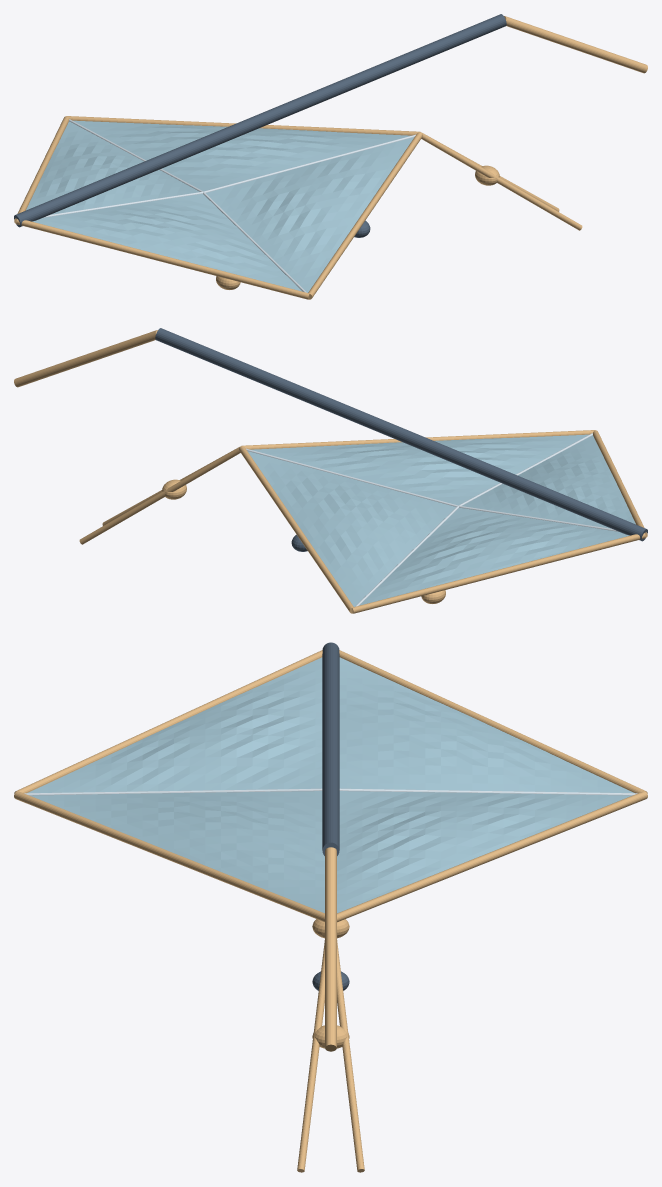
File: sail_left.glb
3 renders of one model, top to bottom at view 1: azimuth 30°, elevation 25°; view 2: azimuth 150°, elevation 25°; view 3: azimuth 270°, elevation 25°, orthographic. The views are drawn at different scales.
Visible parts, largest first — view 1: WEB_Tension_Membrane_-1, WEB_P2L_Raised_MainBoom_-1, WEB_Membrane_Edge_-1_1, WEB_Membrane_Edge_-1_3, WEB_P2L_Overhead_Yoke_-1, WEB_Membrane_Edge_-1_0, WEB_Boom_CrossBraceRear_-1, WEB_Membrane_Edge_-1_2, WEB_Membrane_Tension_-1_0; view 2: WEB_Tension_Membrane_-1, WEB_P2L_Raised_MainBoom_-1, WEB_Membrane_Edge_-1_2, WEB_Membrane_Edge_-1_0, WEB_P2L_Overhead_Yoke_-1, WEB_Membrane_Edge_-1_3, WEB_Boom_CrossBrace_-1, WEB_Membrane_Edge_-1_1, WEB_Membrane_Tension_-1_0; view 3: WEB_Tension_Membrane_-1, WEB_P2L_Raised_MainBoom_-1, WEB_Membrane_Edge_-1_0, WEB_Membrane_Edge_-1_3, WEB_P2L_Overhead_Yoke_-1, WEB_Membrane_Edge_-1_1, WEB_Membrane_Edge_-1_2, WEB_Boom_CrossBrace_-1, WEB_Boom_CrossBraceRear_-1, WEB_Membrane_Tension_-1_1, WEB_Membrane_Tension_-1_3.
Part boxes in pixels (<box>): WEB_Tension_Membrane_-1: <box>26,120,414,292</box>; WEB_P2L_Raised_MainBoom_-1: <box>14,14,506,227</box>; WEB_Membrane_Edge_-1_1: <box>16,219,309,299</box>; WEB_Membrane_Edge_-1_3: <box>67,116,419,135</box>; WEB_P2L_Overhead_Yoke_-1: <box>504,16,647,73</box>; WEB_Membrane_Edge_-1_0: <box>308,132,422,299</box>; WEB_Boom_CrossBraceRear_-1: <box>421,133,582,230</box>; WEB_Membrane_Edge_-1_2: <box>14,116,68,223</box>; WEB_Membrane_Tension_-1_0: <box>203,134,415,192</box>; WEB_Tension_Membrane_-1: <box>247,434,635,606</box>; WEB_P2L_Raised_MainBoom_-1: <box>155,328,647,541</box>; WEB_Membrane_Edge_-1_2: <box>352,533,645,613</box>; WEB_Membrane_Edge_-1_0: <box>242,430,594,449</box>; WEB_P2L_Overhead_Yoke_-1: <box>14,330,157,387</box>; WEB_Membrane_Edge_-1_3: <box>239,446,353,613</box>; WEB_Boom_CrossBrace_-1: <box>79,447,240,544</box>; WEB_Membrane_Edge_-1_1: <box>593,430,647,537</box>; WEB_Membrane_Tension_-1_0: <box>246,448,458,506</box>; WEB_Tension_Membrane_-1: <box>27,657,634,913</box>; WEB_P2L_Raised_MainBoom_-1: <box>322,642,339,855</box>; WEB_Membrane_Edge_-1_0: <box>14,791,324,922</box>; WEB_Membrane_Edge_-1_3: <box>337,791,647,922</box>; WEB_P2L_Overhead_Yoke_-1: <box>325,847,336,1051</box>; WEB_Membrane_Edge_-1_1: <box>14,650,322,793</box>; WEB_Membrane_Edge_-1_2: <box>339,650,647,793</box>; WEB_Boom_CrossBrace_-1: <box>337,940,364,1172</box>; WEB_Boom_CrossBraceRear_-1: <box>297,940,324,1172</box>; WEB_Membrane_Tension_-1_1: <box>24,788,322,795</box>; WEB_Membrane_Tension_-1_3: <box>339,788,637,795</box>.
Size of the model in its own units: 7.22 by 2.44 by 4.85.
